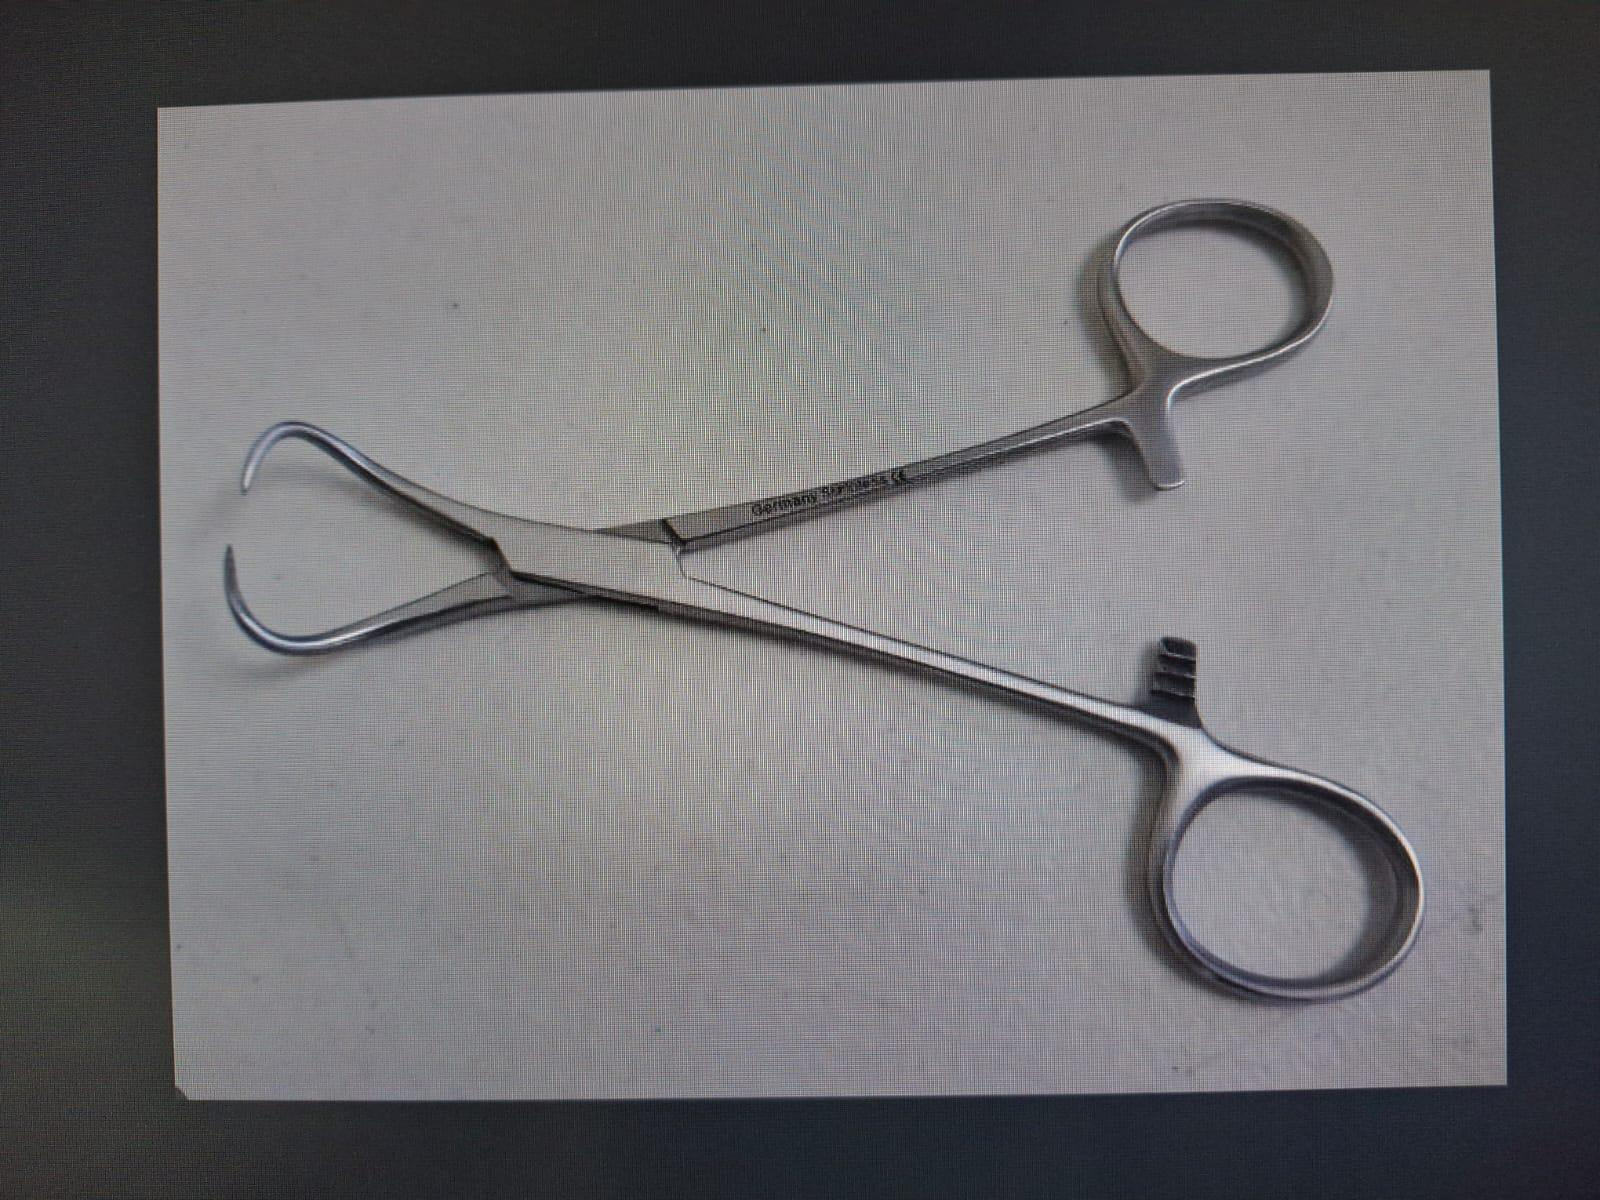Backhaus: (208, 170, 1440, 1014)
